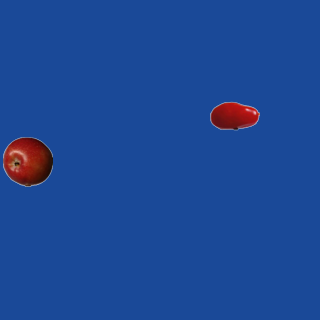Apple Braeburn: (2, 136, 52, 186)
Tomato 2: (209, 90, 259, 140)
